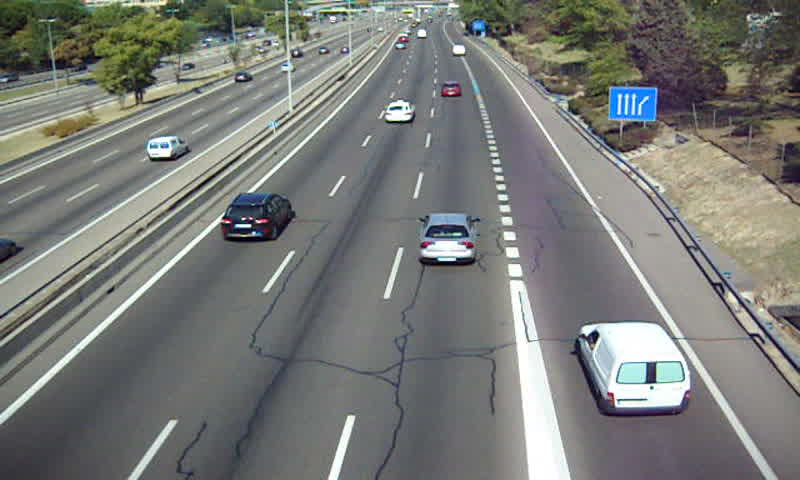car: (221, 192, 291, 242), (418, 213, 477, 266), (385, 101, 415, 122), (442, 82, 462, 98)
van: (574, 322, 692, 417)
